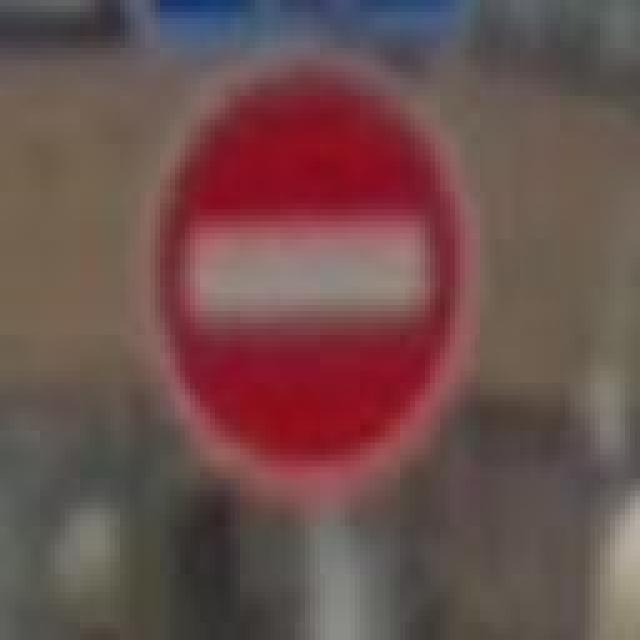do_not_enter: (145, 54, 480, 496)
